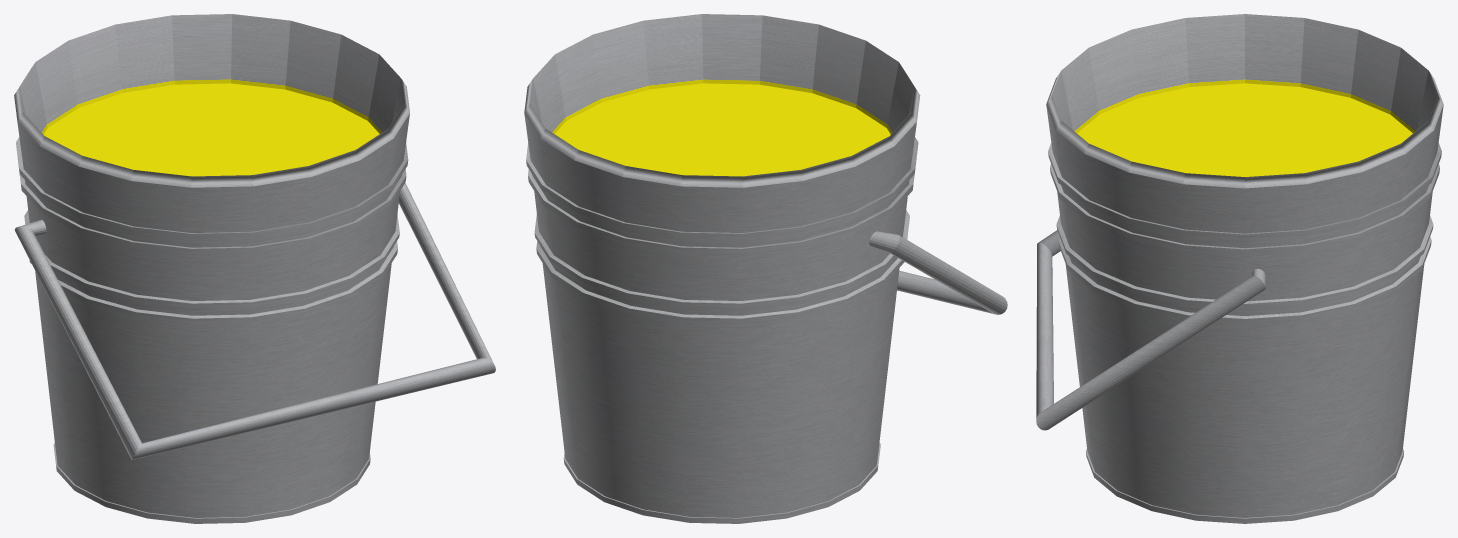
The model's file is BucketWithPaintYellow.fbx.
3 renders of one model, left to right at view 1: azimuth 30°, elevation 25°; view 2: azimuth 150°, elevation 25°; view 3: azimuth 270°, elevation 25°, orthographic.
Parts seen in each view (by area): view 1: PaintBocket; view 2: PaintBocket; view 3: PaintBocket.
Boxes of the visible parts, x1,y1,x2,y2 form: PaintBocket: [14, 14, 495, 523]; PaintBocket: [524, 14, 1007, 523]; PaintBocket: [1036, 14, 1443, 523].
Size of the model in its own units: 42.73 by 40.13 by 41.
